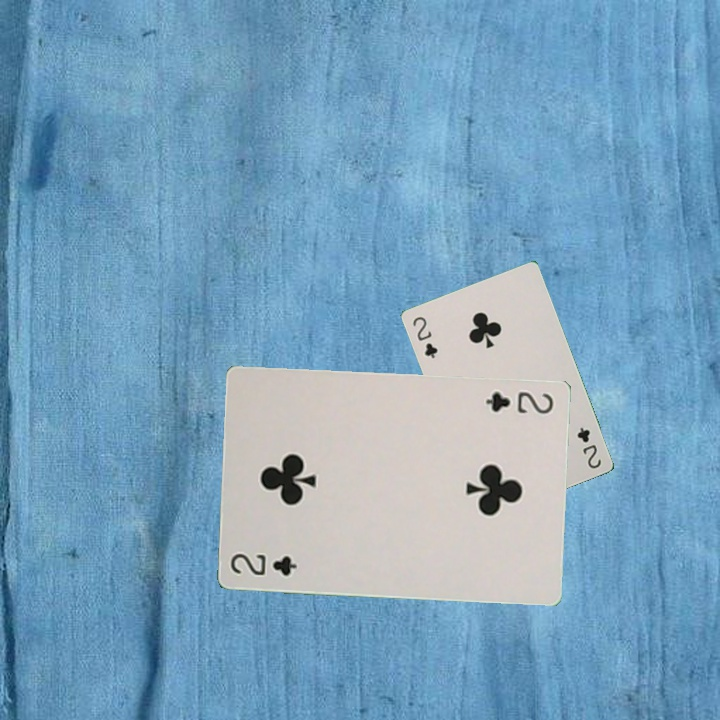2c: (227, 549, 300, 579), (481, 387, 556, 416), (408, 312, 440, 361), (573, 423, 604, 471)
